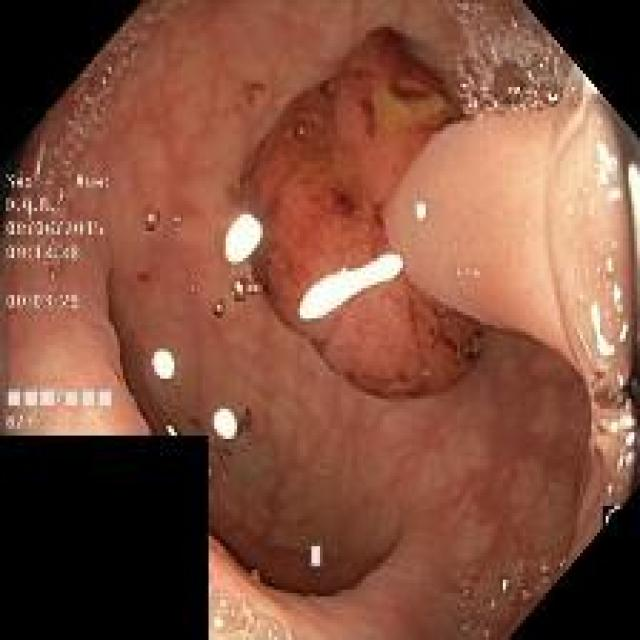Polyps: (244, 28, 482, 398)
